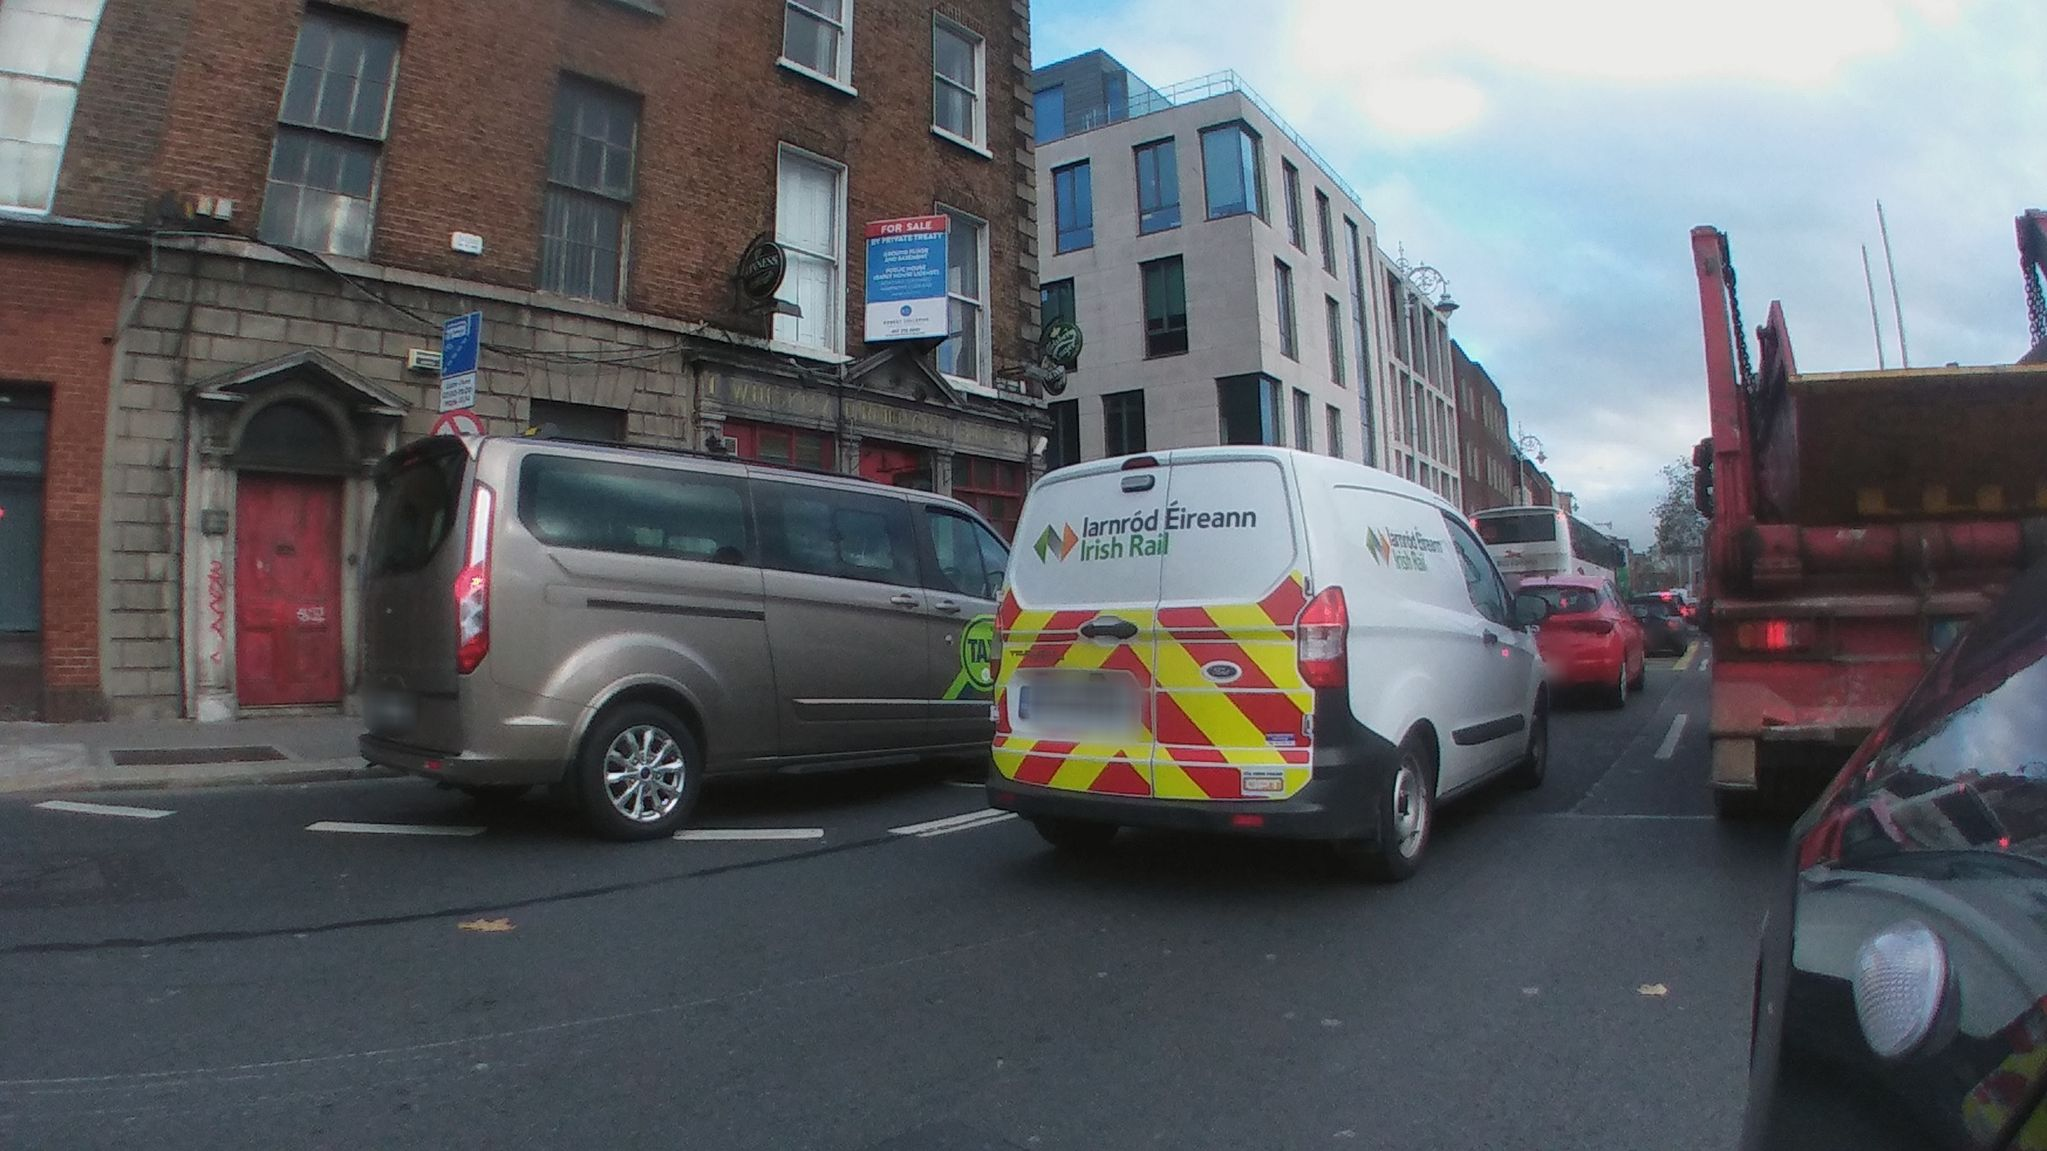property sign: (855, 211, 969, 367)
